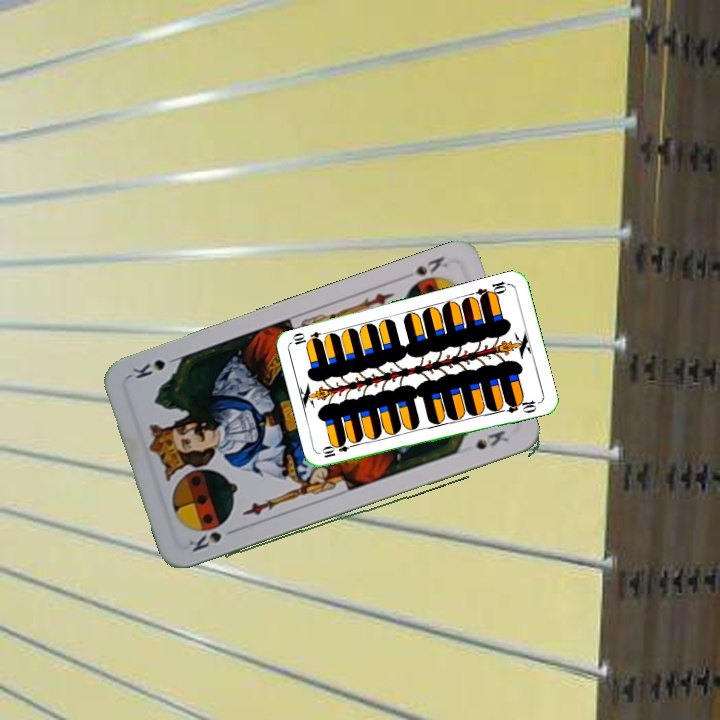E10: (472, 277, 512, 302), (319, 440, 359, 461)
SK: (397, 252, 450, 281), (184, 527, 224, 555)
